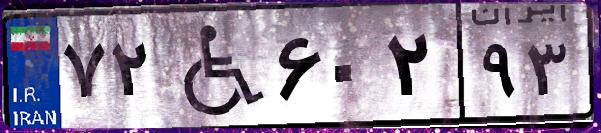0: (330, 28, 385, 110)
2: (385, 28, 445, 110), (110, 28, 158, 98)
3: (525, 38, 570, 115)
6: (270, 28, 330, 110)
7: (57, 26, 110, 100)
9: (475, 38, 525, 113)
ژ (معلولین و جانبازان): (158, 12, 270, 120)
